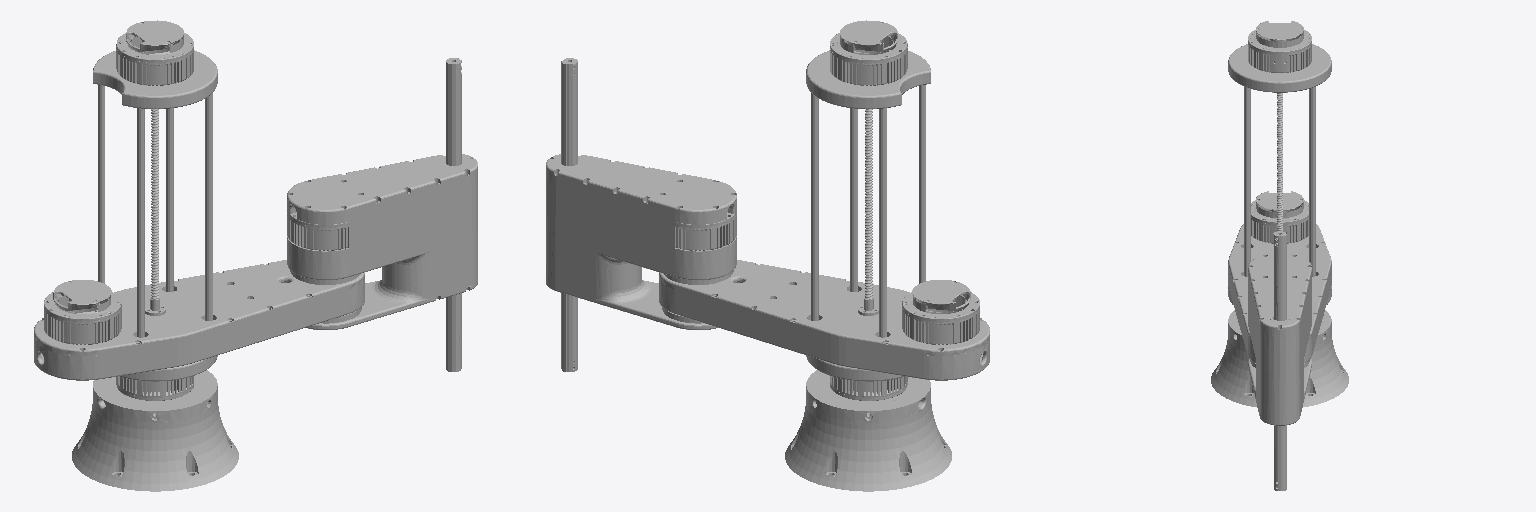
URDF robot description (scara2):
<?xml version="1.0" encoding="utf-8"?>
<!-- This URDF was automatically created by SolidWorks to URDF Exporter! Originally created by [author] ([email redacted]) 
     Commit Version: 1.6.0-4-g7f85cfe  Build Version: 1.6.7995.38578
     For more information, please see http://wiki.ros.org/sw_urdf_exporter -->
<robot
  name="scara2">
  <link
    name="base_link">
    <inertial>
      <origin
        xyz="0.000112291891900602 -1.25287656198427E-07 0.0354115504494239"
        rpy="0 0 0" />
      <mass
        value="0.991554077905459" />
      <inertia
        ixx="0.00192448180742961"
        ixy="2.11283432281884E-09"
        ixz="-1.9020496735887E-06"
        iyy="0.00191951240631999"
        iyz="-5.33524232356615E-10"
        izz="0.00288631092848907" />
    </inertial>
    <visual>
      <origin
        xyz="0 0 0"
        rpy="0 0 0" />
      <geometry>
        <mesh
          filename="package://scara2/meshes/base_link.STL" />
      </geometry>
      <material
        name="">
        <color
          rgba="0.752941176470588 0.752941176470588 0.752941176470588 1" />
      </material>
    </visual>
    <collision>
      <origin
        xyz="0 0 0"
        rpy="0 0 0" />
      <geometry>
        <mesh
          filename="package://scara2/meshes/base_link.STL" />
      </geometry>
    </collision>
  </link>
  <link
    name="link_1">
    <inertial>
      <origin
        xyz="0.00165767401571816 1.70896040458036E-06 0.123818843567704"
        rpy="0 0 0" />
      <mass
        value="0.397517073105265" />
      <inertia
        ixx="0.000945090317181285"
        ixy="9.83848509068284E-11"
        ixz="3.9154121232617E-08"
        iyy="0.000908367870173029"
        iyz="-1.6807384958521E-09"
        izz="0.000688766811998084" />
    </inertial>
    <visual>
      <origin
        xyz="0 0 0"
        rpy="0 0 0" />
      <geometry>
        <mesh
          filename="package://scara2/meshes/link_1.STL" />
      </geometry>
      <material
        name="">
        <color
          rgba="0.752941176470588 0.752941176470588 0.752941176470588 1" />
      </material>
    </visual>
    <collision>
      <origin
        xyz="0 0 0"
        rpy="0 0 0" />
      <geometry>
        <mesh
          filename="package://scara2/meshes/link_1.STL" />
      </geometry>
    </collision>
  </link>
  <joint
    name="joint_1"
    type="revolute">
    <origin
      xyz="0 0 0.127"
      rpy="0 0 0" />
    <parent
      link="base_link" />
    <child
      link="link_1" />
    <axis
      xyz="0 0 1" />
    <limit
      lower="-62.832"
      upper="62.832"
      effort="0"
      velocity="32.463" />
  </joint>
  <link
    name="link_2">
    <inertial>
      <origin
        xyz="0.0387315248591735 -3.38160608510492E-08 0.0169513306678338"
        rpy="0 0 0" />
      <mass
        value="0.584294876980268" />
      <inertia
        ixx="0.000702113863846578"
        ixy="-1.74180314512459E-09"
        ixz="3.46510070116096E-06"
        iyy="0.00508595932378152"
        iyz="1.19036919660062E-10"
        izz="0.00573417672422795" />
    </inertial>
    <visual>
      <origin
        xyz="0 0 0"
        rpy="0 0 0" />
      <geometry>
        <mesh
          filename="package://scara2/meshes/link_2.STL" />
      </geometry>
      <material
        name="">
        <color
          rgba="0.752941176470588 0.752941176470588 0.752941176470588 1" />
      </material>
    </visual>
    <collision>
      <origin
        xyz="0 0 0"
        rpy="0 0 0" />
      <geometry>
        <mesh
          filename="package://scara2/meshes/link_2.STL" />
      </geometry>
    </collision>
  </link>
  <joint
    name="joint_2"
    type="prismatic">
    <origin
      xyz="0 0 0"
      rpy="0 0 0" />
    <parent
      link="link_1" />
    <child
      link="link_2" />
    <axis
      xyz="0 0 1" />
    <limit
      lower="0"
      upper="0.2555"
      effort="0"
      velocity="0.03875" />
  </joint>
  <link
    name="link_3">
    <inertial>
      <origin
        xyz="0.0621958225453788 0.000134468372637445 0.0436225382639119"
        rpy="0 0 0" />
      <mass
        value="0.513779139152664" />
      <inertia
        ixx="0.000574442937270625"
        ixy="-4.4302912966142E-05"
        ixz="-1.4609410771928E-05"
        iyy="0.00188020009669945"
        iyz="-4.86986597248863E-05"
        izz="0.00168259059667376" />
    </inertial>
    <visual>
      <origin
        xyz="0 0 0"
        rpy="0 0 0" />
      <geometry>
        <mesh
          filename="package://scara2/meshes/link_3.STL" />
      </geometry>
      <material
        name="">
        <color
          rgba="0.752941176470588 0.752941176470588 0.752941176470588 1" />
      </material>
    </visual>
    <collision>
      <origin
        xyz="0 0 0"
        rpy="0 0 0" />
      <geometry>
        <mesh
          filename="package://scara2/meshes/link_3.STL" />
      </geometry>
    </collision>
  </link>
  <joint
    name="joint_3"
    type="revolute">
    <origin
      xyz="0.2 0 0"
      rpy="0 0 0" />
    <parent
      link="link_2" />
    <child
      link="link_3" />
    <axis
      xyz="0 0 1" />
    <limit
      lower="-2.3562"
      upper="2.3562"
      effort="0"
      velocity="32.463" />
  </joint>
  <link
    name="link_4">
    <inertial>
      <origin
        xyz="6.84486187987887E-05 0.000125134010229794 0.0614990081693007"
        rpy="0 0 0" />
      <mass
        value="0.131330963227228" />
      <inertia
        ixx="0.000733194248876672"
        ixy="-1.05578097244272E-07"
        ixz="3.73650183858415E-08"
        iyy="0.000733071754853273"
        iyz="-6.84813676740476E-08"
        izz="1.17289819499542E-05" />
    </inertial>
    <visual>
      <origin
        xyz="0 0 0"
        rpy="0 0 0" />
      <geometry>
        <mesh
          filename="package://scara2/meshes/link_4.STL" />
      </geometry>
      <material
        name="">
        <color
          rgba="0.752941176470588 0.752941176470588 0.752941176470588 1" />
      </material>
    </visual>
    <collision>
      <origin
        xyz="0 0 0"
        rpy="0 0 0" />
      <geometry>
        <mesh
          filename="package://scara2/meshes/link_4.STL" />
      </geometry>
    </collision>
  </link>
  <joint
    name="joint_4"
    type="revolute">
    <origin
      xyz="0.15 0 0"
      rpy="0 0 0" />
    <parent
      link="link_3" />
    <child
      link="link_4" />
    <axis
      xyz="0 0 1" />
    <limit
      lower="-62.832"
      upper="62.832"
      effort="0"
      velocity="32.463" />
  </joint>
</robot>

--- What the picture shows (computed from the rendered views, not written in the file) ---
3 views of the same robot in one strip: view 1: azimuth 30°, elevation 25°; view 2: azimuth 150°, elevation 25°; view 3: azimuth 270°, elevation 25° (orthographic).
Model scara2 with 5 links and 4 joints (3 revolute, 1 prismatic), rooted at base_link, posed every joint at zero.
Links seen in each view (by area): view 1: link_3, link_2, link_1, base_link, link_4; view 2: link_3, link_2, link_1, base_link, link_4; view 3: link_1, link_3, link_2, base_link, link_4.
Link boxes in pixels (x1=…): link_3: x1=287, y1=154, x2=477, y2=329; link_2: x1=34, y1=260, x2=364, y2=380; link_1: x1=93, y1=20, x2=217, y2=381; base_link: x1=72, y1=370, x2=238, y2=491; link_4: x1=442, y1=58, x2=465, y2=371; link_3: x1=546, y1=154, x2=736, y2=329; link_2: x1=659, y1=260, x2=989, y2=380; link_1: x1=806, y1=20, x2=930, y2=381; base_link: x1=785, y1=370, x2=951, y2=491; link_4: x1=558, y1=58, x2=581, y2=371; link_1: x1=1228, y1=21, x2=1331, y2=304; link_3: x1=1248, y1=254, x2=1311, y2=425; link_2: x1=1228, y1=191, x2=1331, y2=362; base_link: x1=1211, y1=310, x2=1348, y2=406; link_4: x1=1270, y1=231, x2=1289, y2=490.
Bounding box of the posed robot: 0.51 × 0.17 × 0.4745 m (x, y, z).
5 mesh visuals loaded from 5 distinct referenced files (5 binary STL).